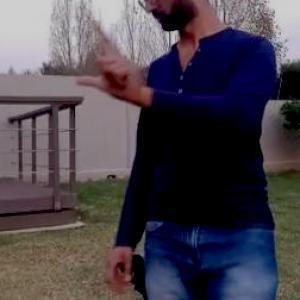land_hand: (70, 17, 147, 103)
